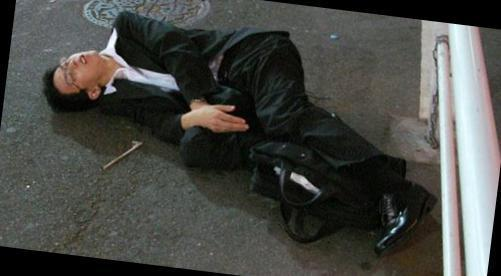Drunk: (54, 51, 109, 89)
